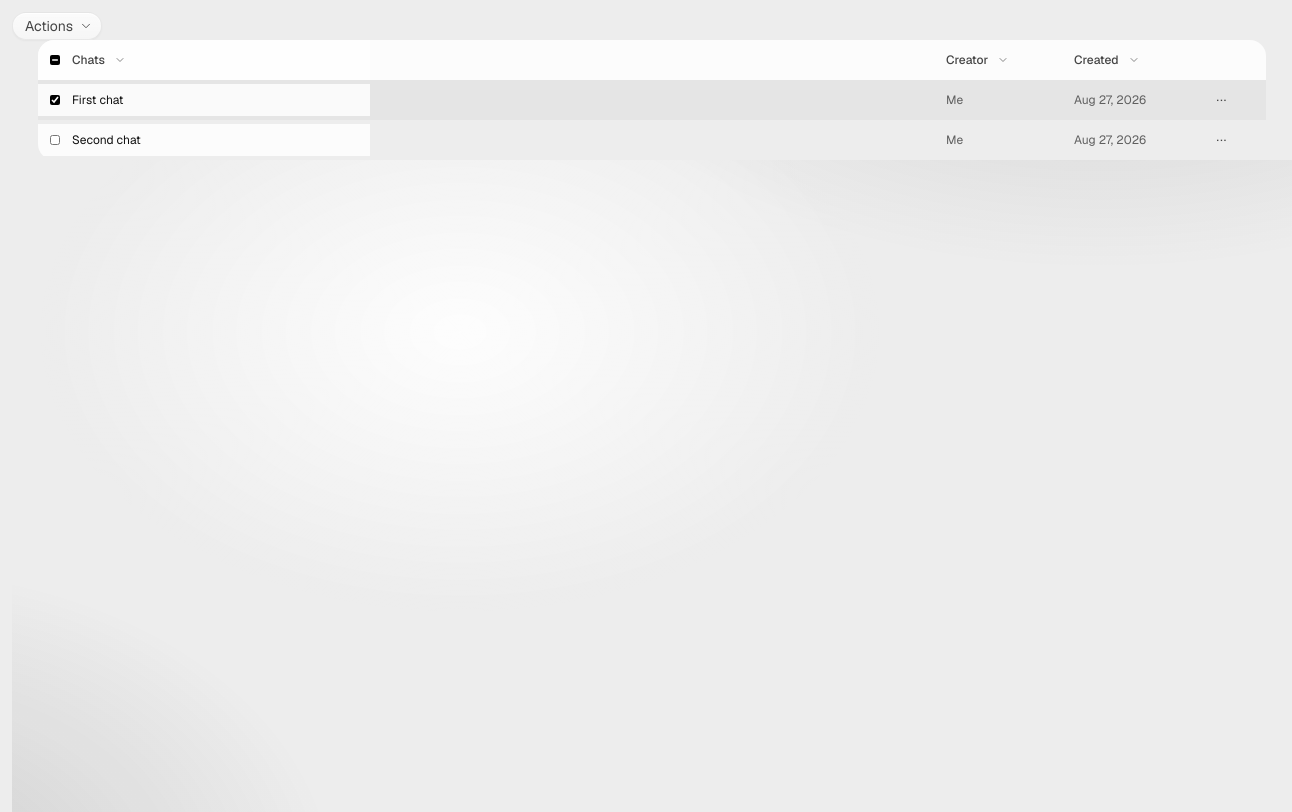
Test: ProjectAssistantTable row context actions › keeps focus in the rename field after a toolbar action
The image size is (1292, 812).
Click the button "Actions".
click(57, 26)  # box [12,12,102,40]
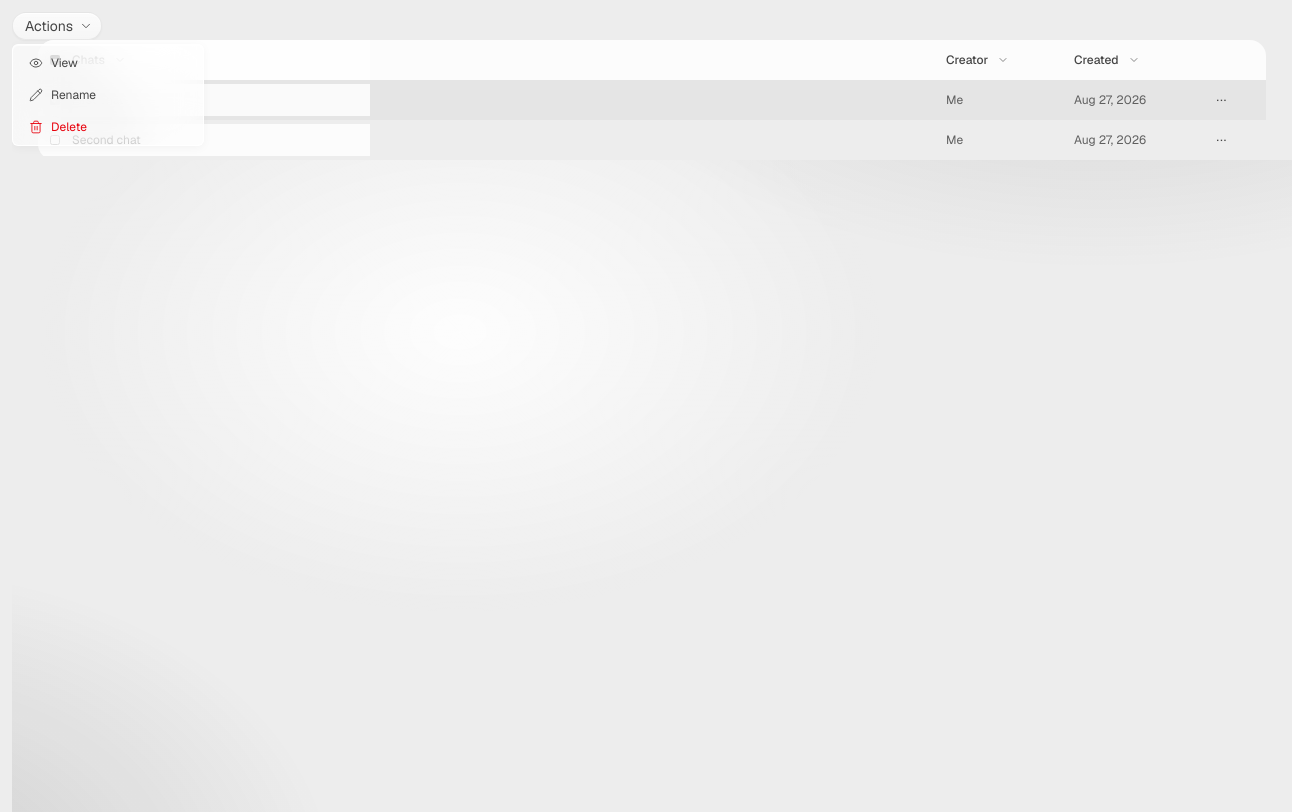
Click the menu item "Rename".
click(63, 95)  # box [29,87,96,103]
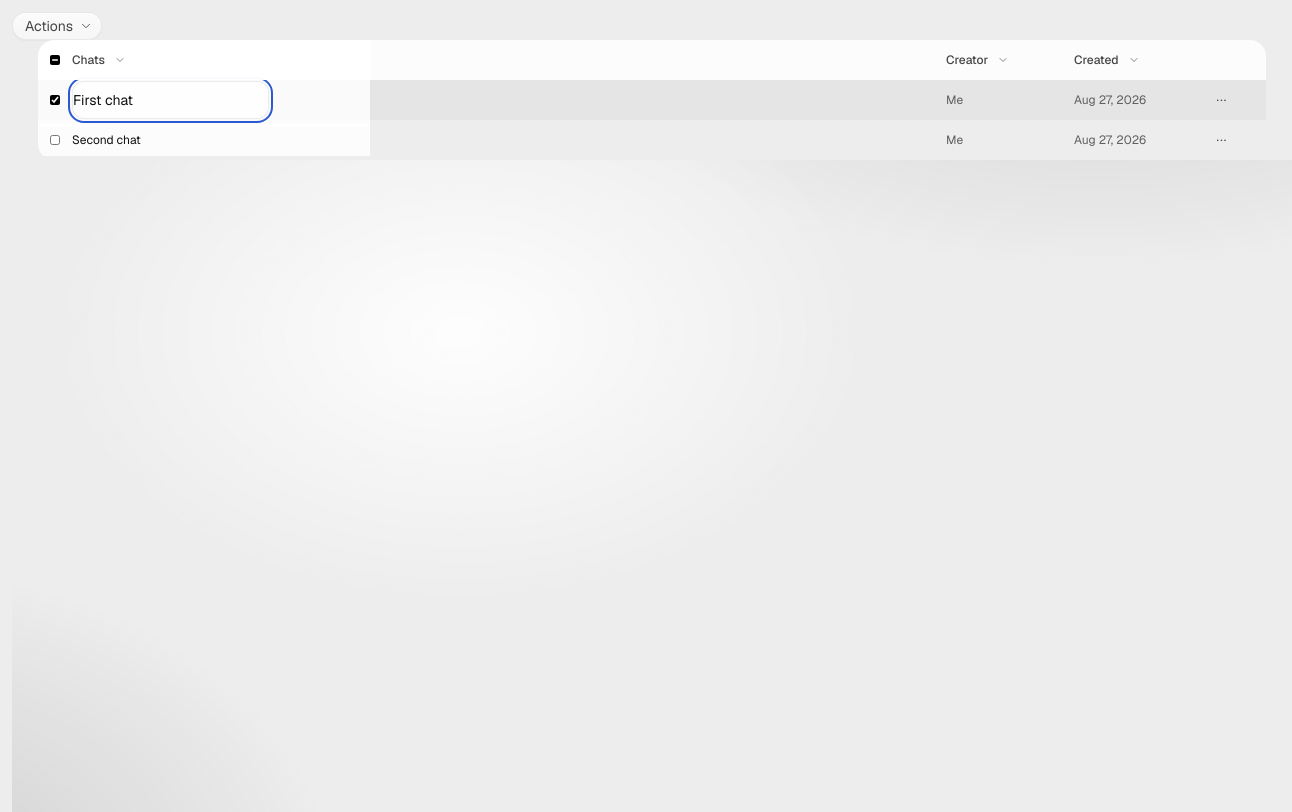
Type " renamed" into the field showing "First chat".
click(170, 100); type(" renamed")  # box [72,81,269,119]
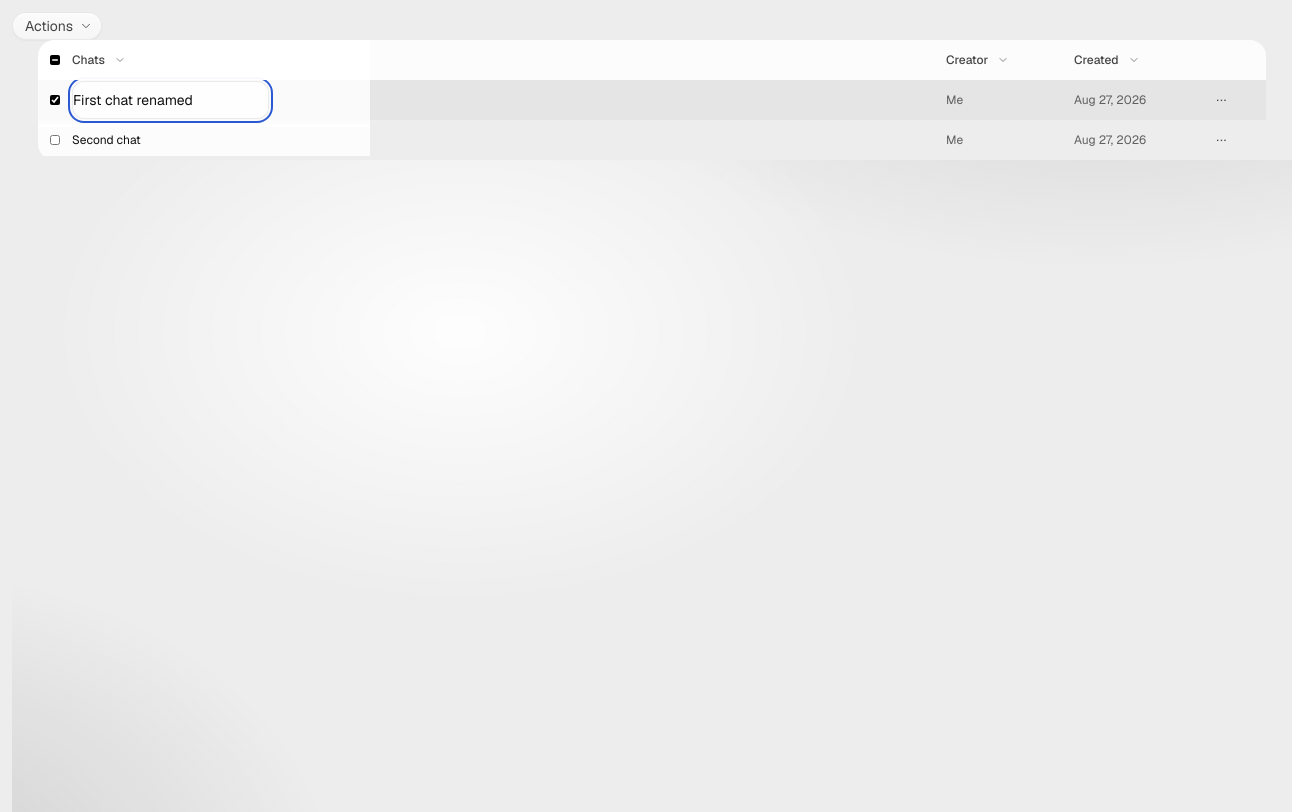
Now the field showing "First chat" holds "First chat renamed", box [72,81,269,119]
